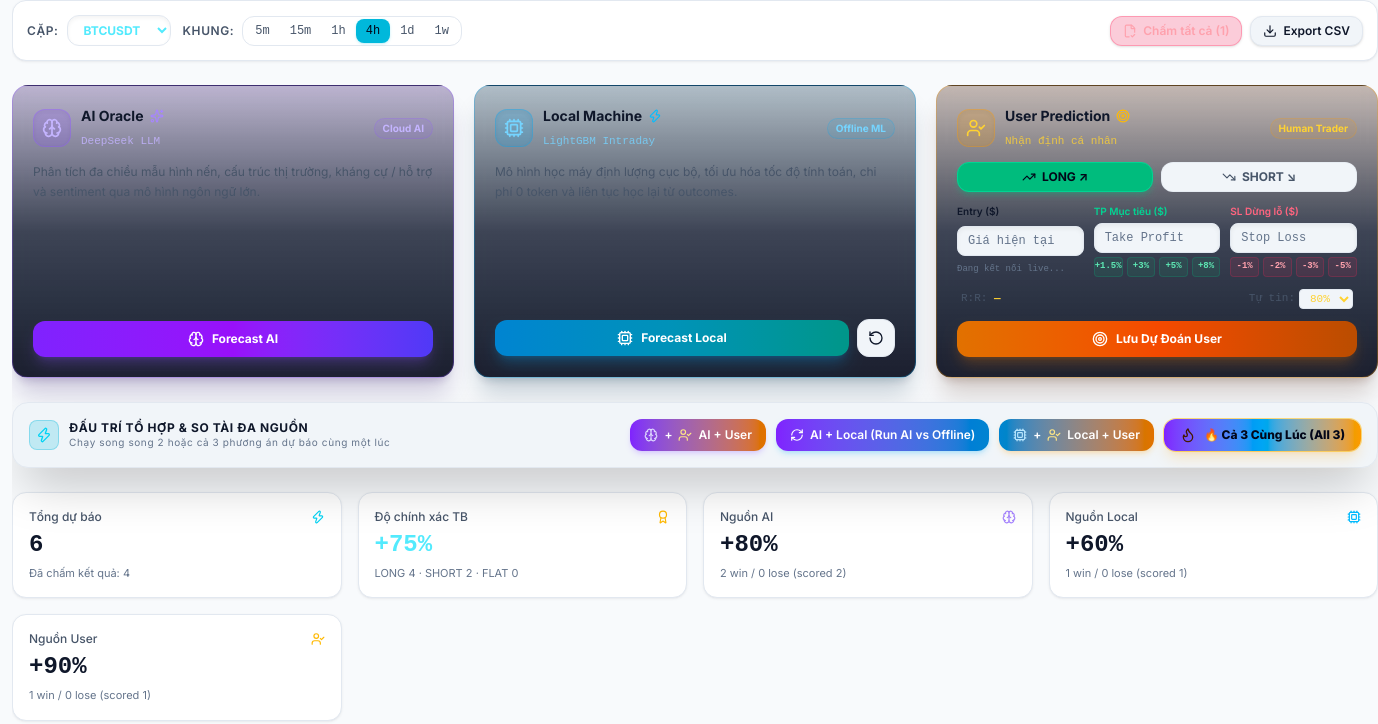
ForecastCompare UI and 3-Cluster Command Deck › runs Local forecast when clicking "Forecast Local"
This screenshot has width=1378, height=724.
Click the button "Forecast Local" at (672, 338), box [495,320,849,356]
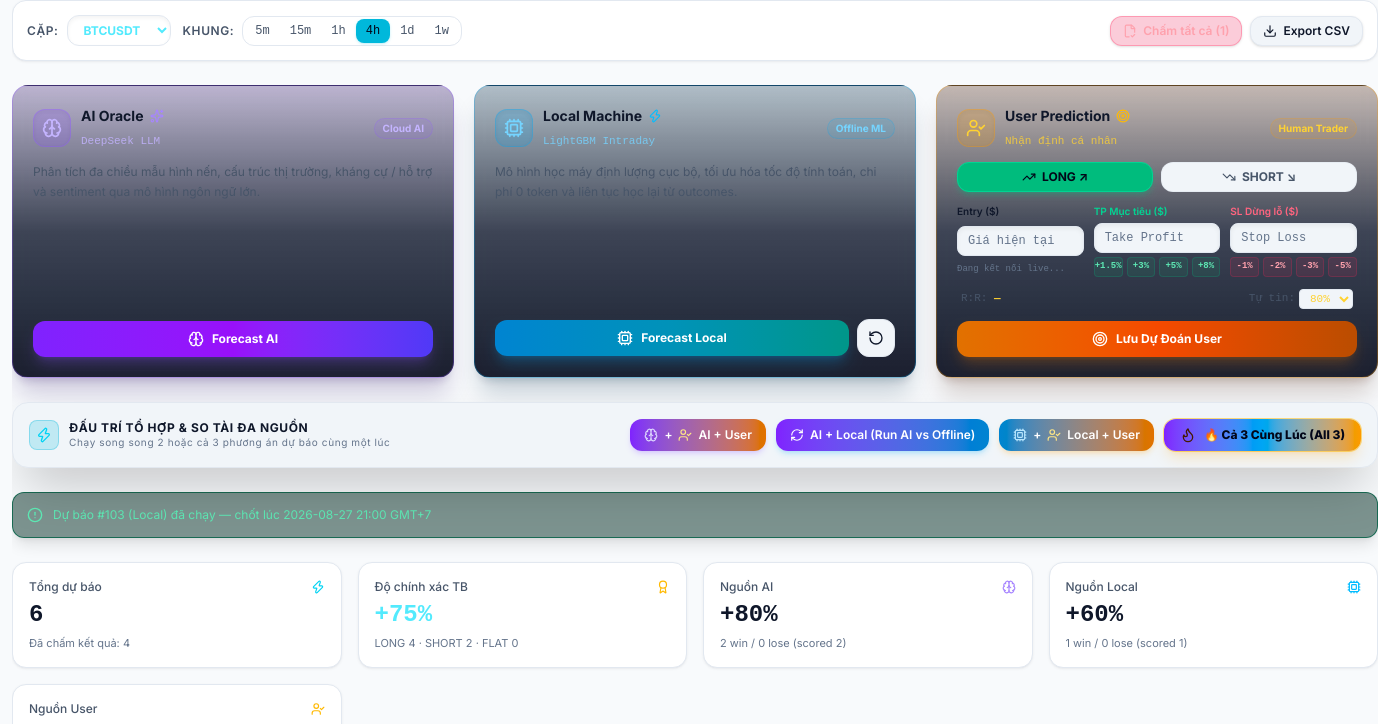
Expected: the text "Dự báo #103 (Local) đã chạy" is shown, [53,506,431,522]
